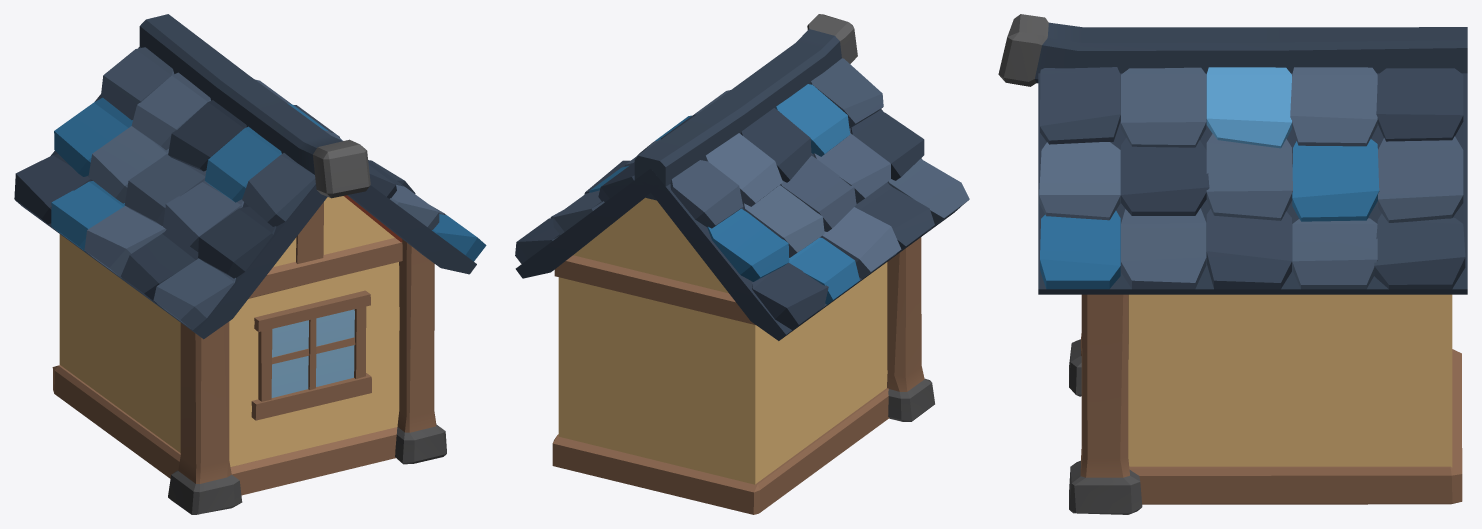
File: House_1Floor_Side_L.fbx
The picture shows the model from 3 angles, left to right: view 1: azimuth 30°, elevation 25°; view 2: azimuth 150°, elevation 25°; view 3: azimuth 270°, elevation 25°; orthographic projection. The views are drawn at different scales.
Visible parts, largest first — view 1: House_1Floor_Side_L; view 2: House_1Floor_Side_L; view 3: House_1Floor_Side_L.
Boxes of the visible parts, x1=… form: House_1Floor_Side_L: x1=14, y1=14, x2=486, y2=514; House_1Floor_Side_L: x1=515, y1=14, x2=969, y2=514; House_1Floor_Side_L: x1=998, y1=14, x2=1467, y2=514.
Bounding box in the file's own units: 259 × 288 × 290.
